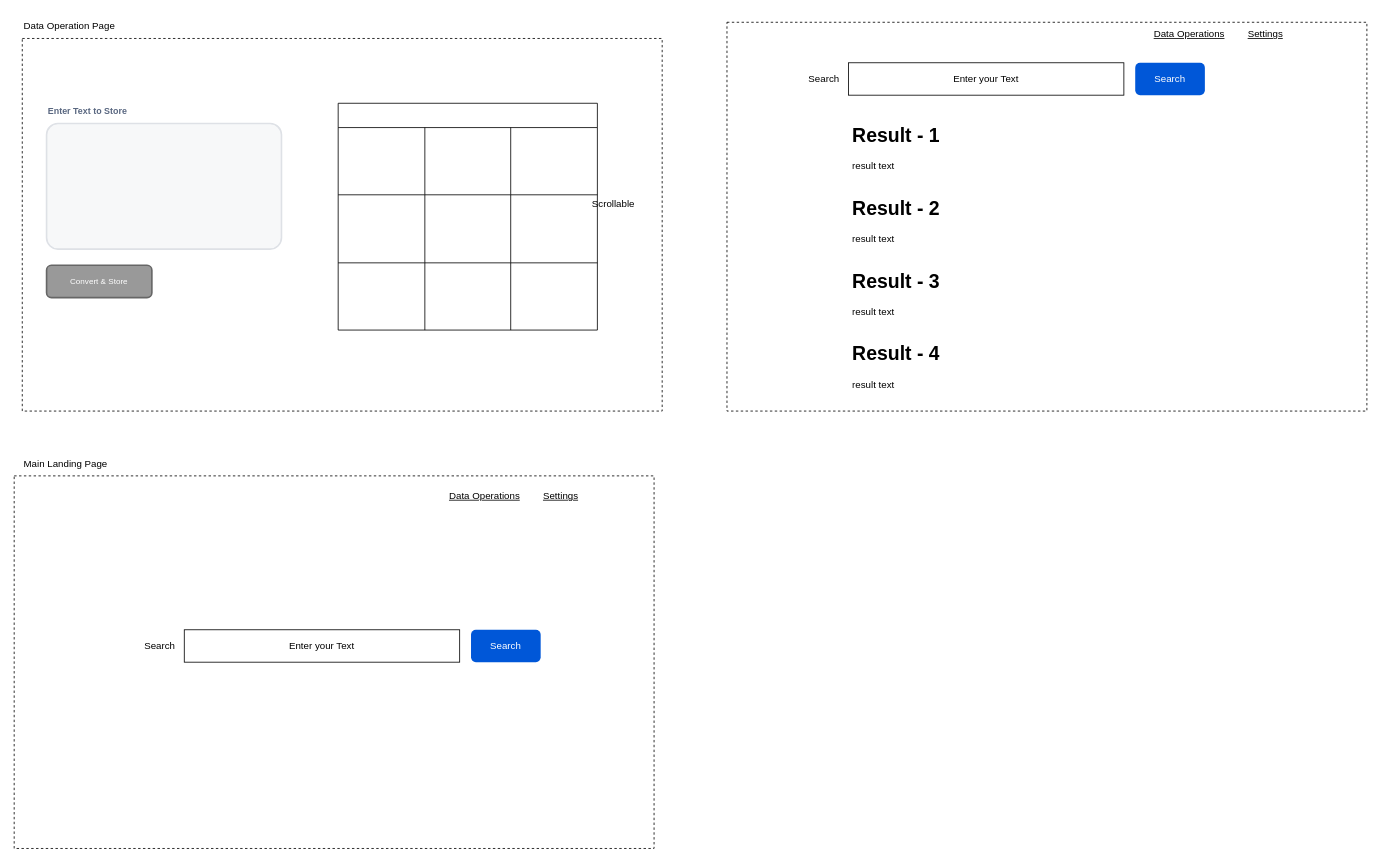
The diagram is 1381 pixels wide and 863 high, and some of its shapes have lost their labels. Each missing label, with the centre of its shape:
My text: the point at 163,185
Stored Data (RowId, Sample Text): the point at 467,216
